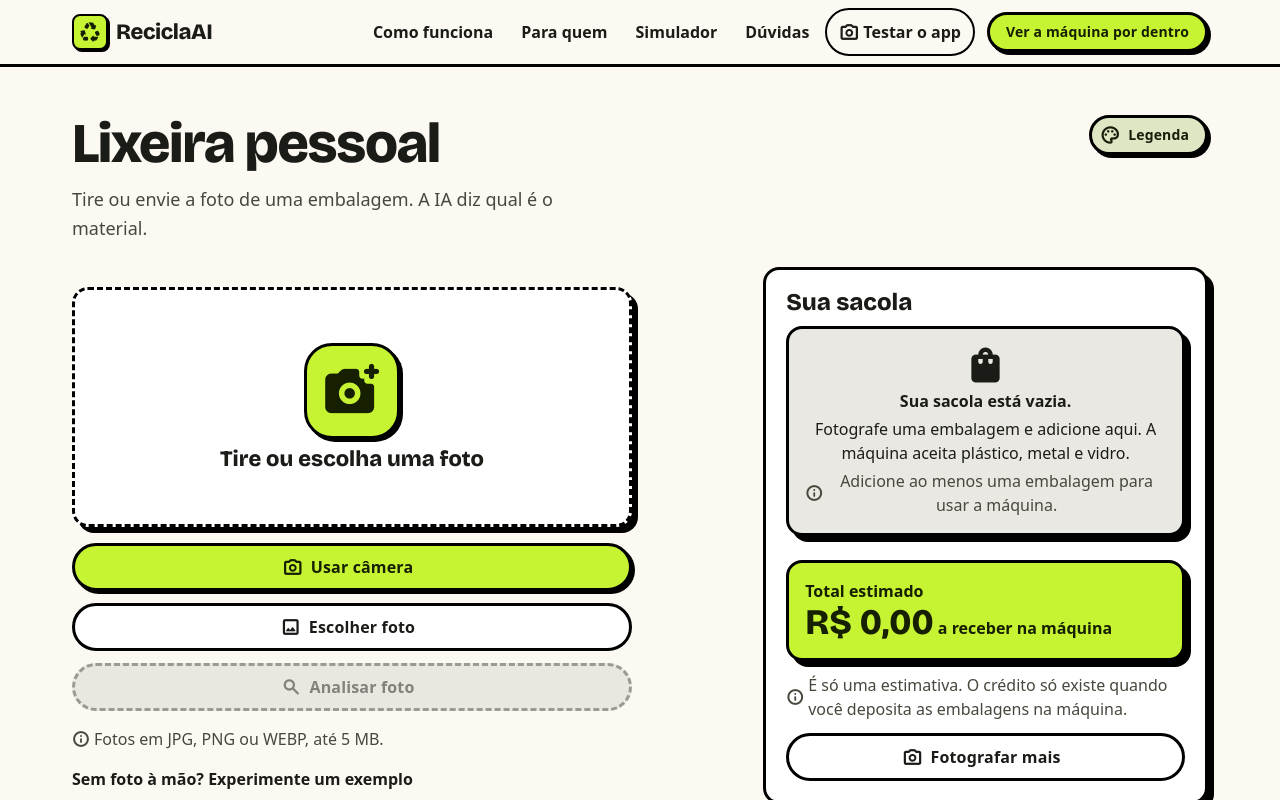
Test: LixeiraPessoal › legenda diz quanto a máquina paga por lixeira
Step 1. Click the button "Legenda" → (1149, 135), box [1089, 115, 1208, 155]
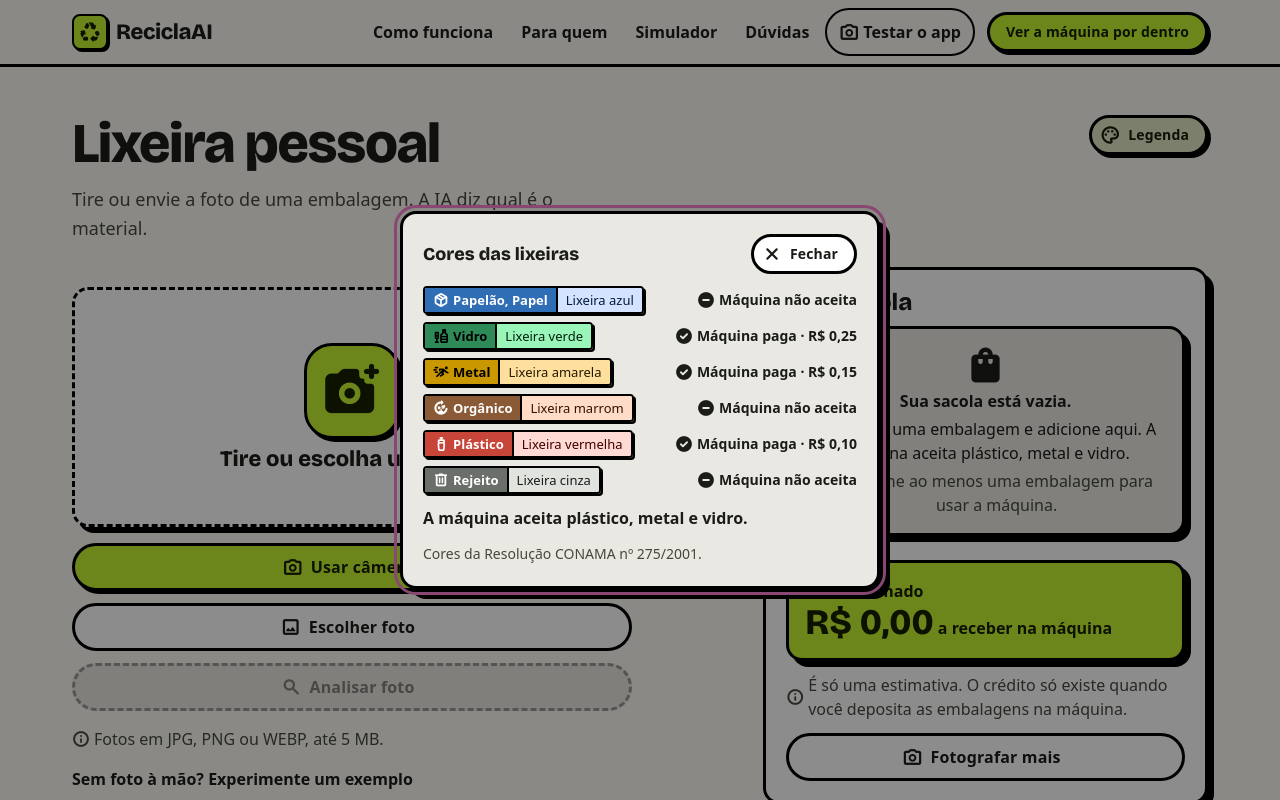
Result: the list item "Plástico Lixeira vermelha Máquina paga · R$ 0,10" is shown at [423, 430, 857, 458]
Result: the list item "Papelão, Papel Lixeira azul Máquina não aceita" is shown at [423, 286, 857, 314]
Result: the list item "Orgânico Lixeira marrom Máquina não aceita" is shown at [423, 394, 857, 422]
